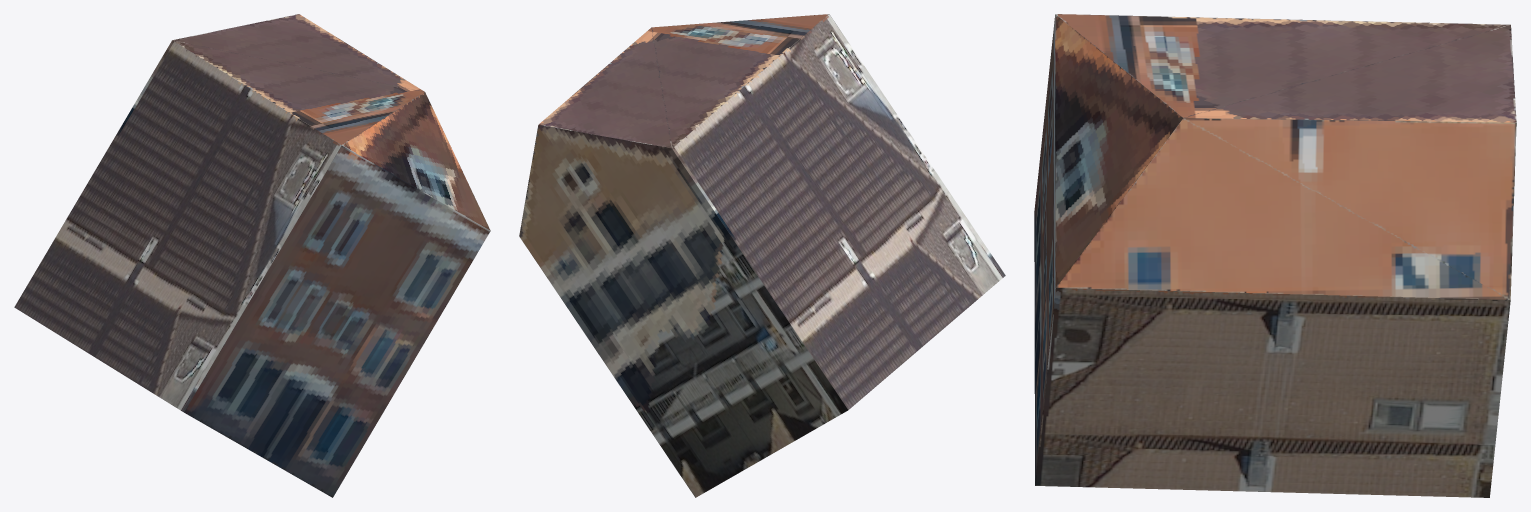
The picture shows the model from 3 angles, left to right: view 1: azimuth 30°, elevation 25°; view 2: azimuth 150°, elevation 25°; view 3: azimuth 270°, elevation 25°; orthographic projection. The views are drawn at different scales.
Visible parts, largest first — view 1: BAG_0599100000760397 (×2); view 2: BAG_0599100000760397 (×2); view 3: BAG_0599100000760397 (×2).
Part boxes in pixels (x1,y1,x2,y2): BAG_0599100000760397 (×2): [14, 14, 490, 497]; BAG_0599100000760397 (×2): [519, 14, 1005, 497]; BAG_0599100000760397 (×2): [1034, 14, 1516, 497].
Size of the model in its own units: 13.46 by 14.18 by 12.4.
Materials: 1 (1 with a texture image).
